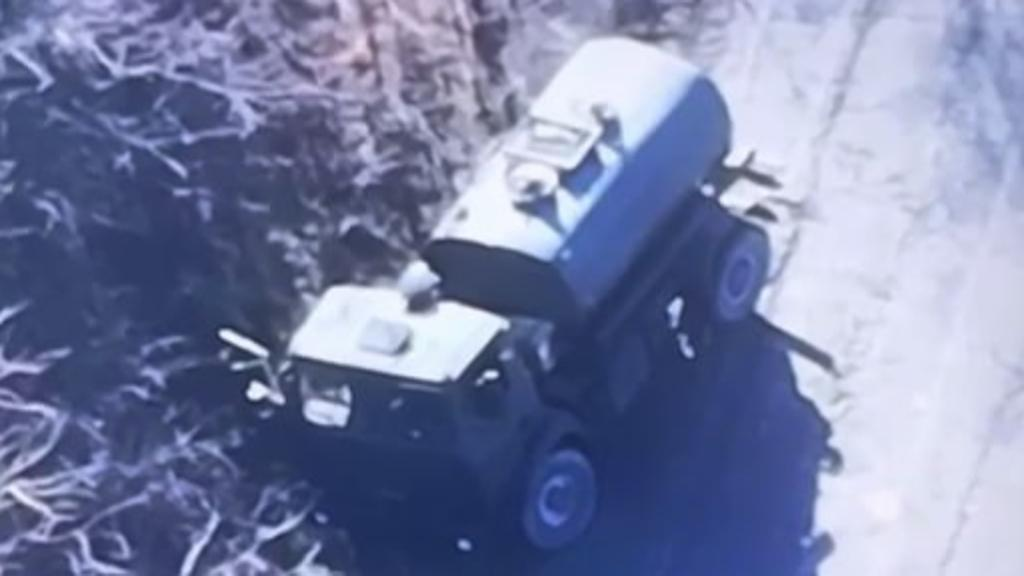TRUCK: (286, 28, 776, 553)
